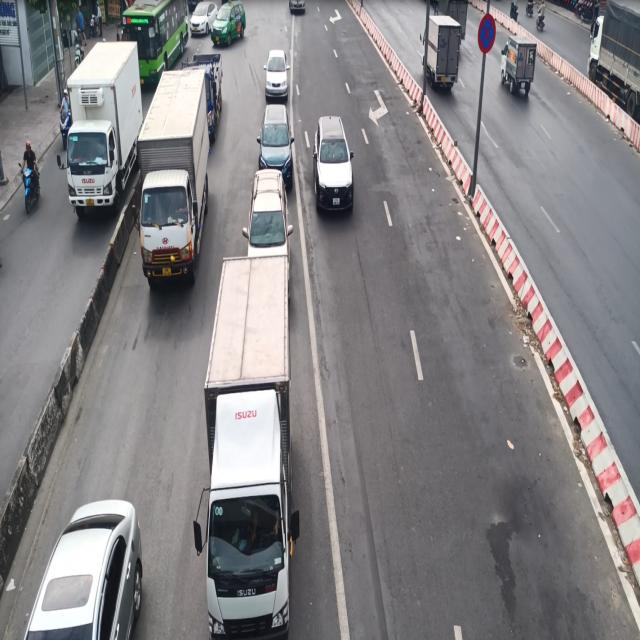car: (310, 111, 357, 212), (264, 44, 289, 97)
motor: (20, 130, 43, 223)
truck: (198, 260, 301, 640), (139, 74, 213, 288)
